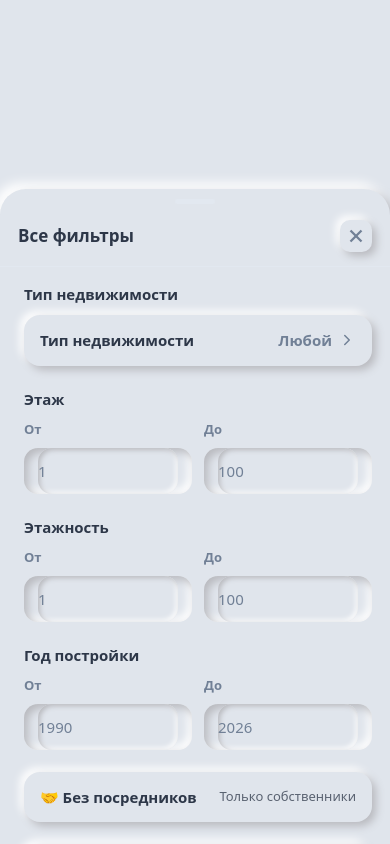
FilterBottomSheet — полноэкранные выборы › тип недвижимости: открывается полноэкранный выбор со списком типов
The image size is (390, 844).
Click the button "Тип недвижимости Любой" at (117, 340), box [24,315,372,366]
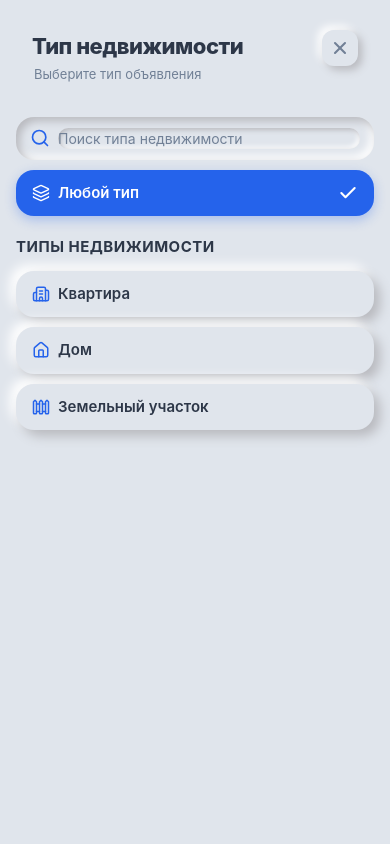
Expected: the text "Квартира" is shown, [32,284,130,303]
Expected: the text "Дом" is shown, [32,340,92,359]
Expected: the text "Земельный участок" is shown, [32,396,209,416]
